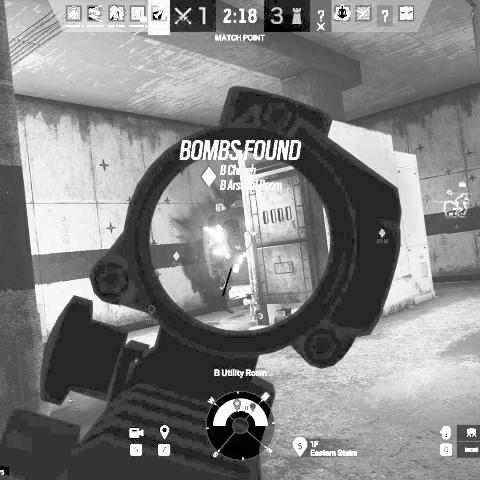Character: (208, 224, 245, 298)
Friend_label: (433, 188, 465, 204), (452, 180, 473, 196)
Head: (216, 226, 230, 241)
